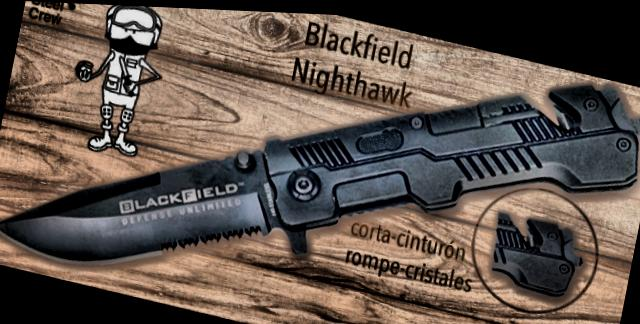knife: (0, 84, 293, 318)
